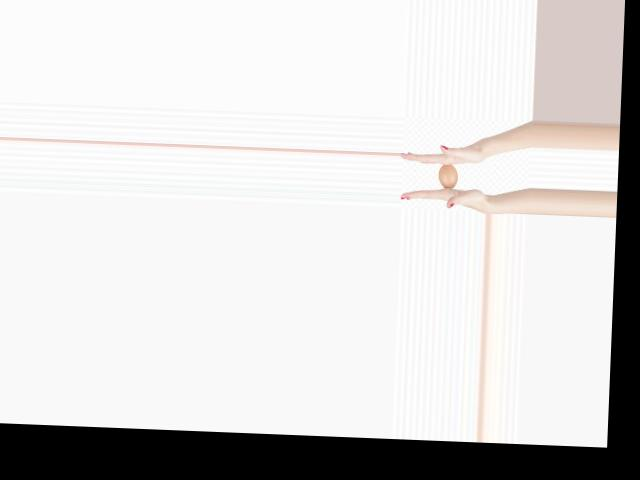egg: (439, 163, 458, 188)
